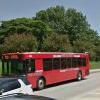Bus: (2, 48, 93, 88)
